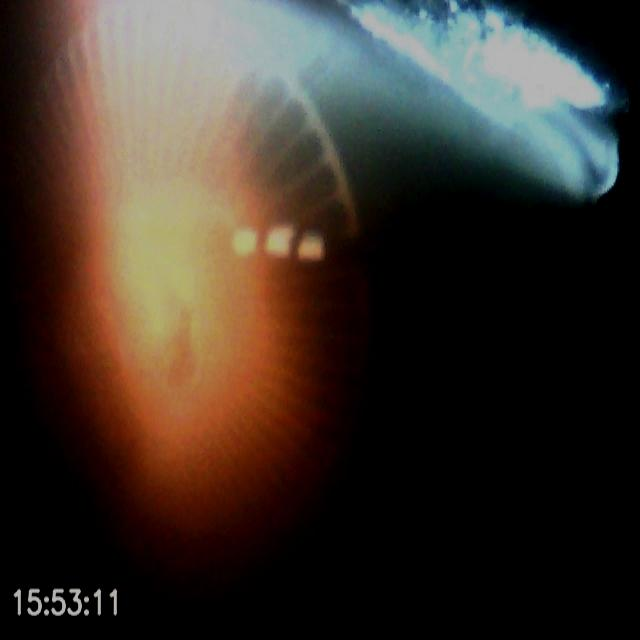white-dots: (229, 222, 329, 265)
